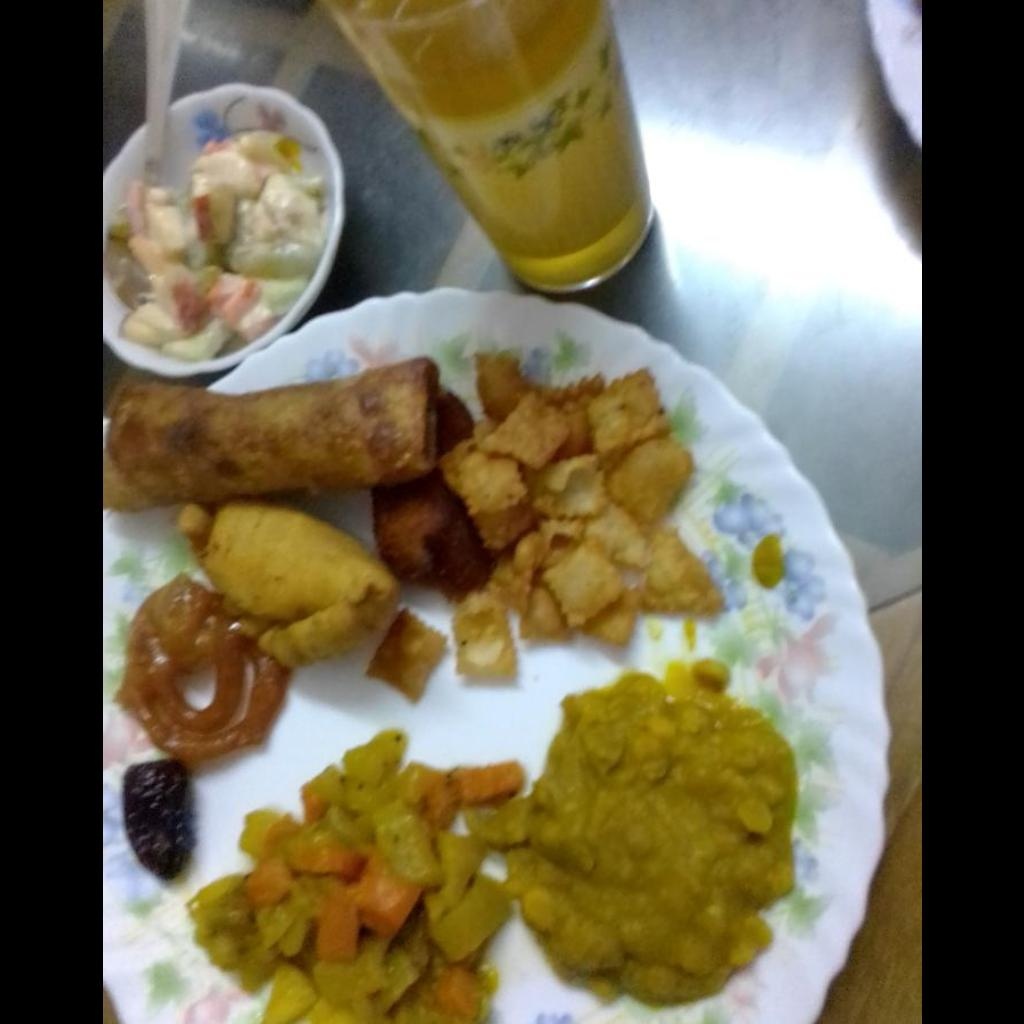chomchom: (440, 353, 720, 676), (368, 610, 444, 701)
daal: (505, 662, 801, 1013)
dates: (120, 761, 194, 871)
puri: (200, 503, 397, 667)
salad: (109, 130, 325, 358)
sweets: (102, 357, 436, 512), (109, 575, 288, 750)
vegetable: (178, 731, 519, 1019)
